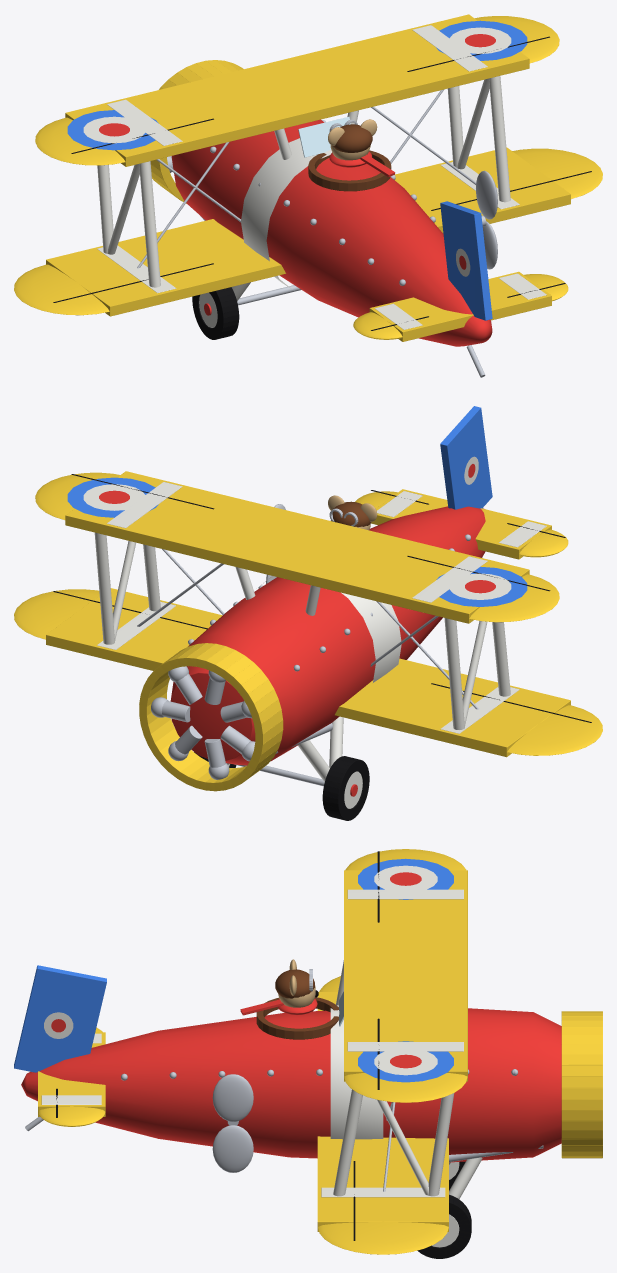
File: plane_body.glb
The picture shows the model from 3 angles, top to bottom: view 1: azimuth 30°, elevation 25°; view 2: azimuth 150°, elevation 25°; view 3: azimuth 270°, elevation 25°; orthographic projection. The views are drawn at different scales.
Visible parts, largest first — view 1: plane_body.001; view 2: plane_body.001; view 3: plane_body.001.
Boxes of the visible parts, box(x1,y1,x2,y2) form: plane_body.001: box(14, 14, 602, 377); plane_body.001: box(14, 406, 602, 820); plane_body.001: box(14, 849, 602, 1258).
Size of the model in its own units: 35.98 by 15.03 by 31.38.
